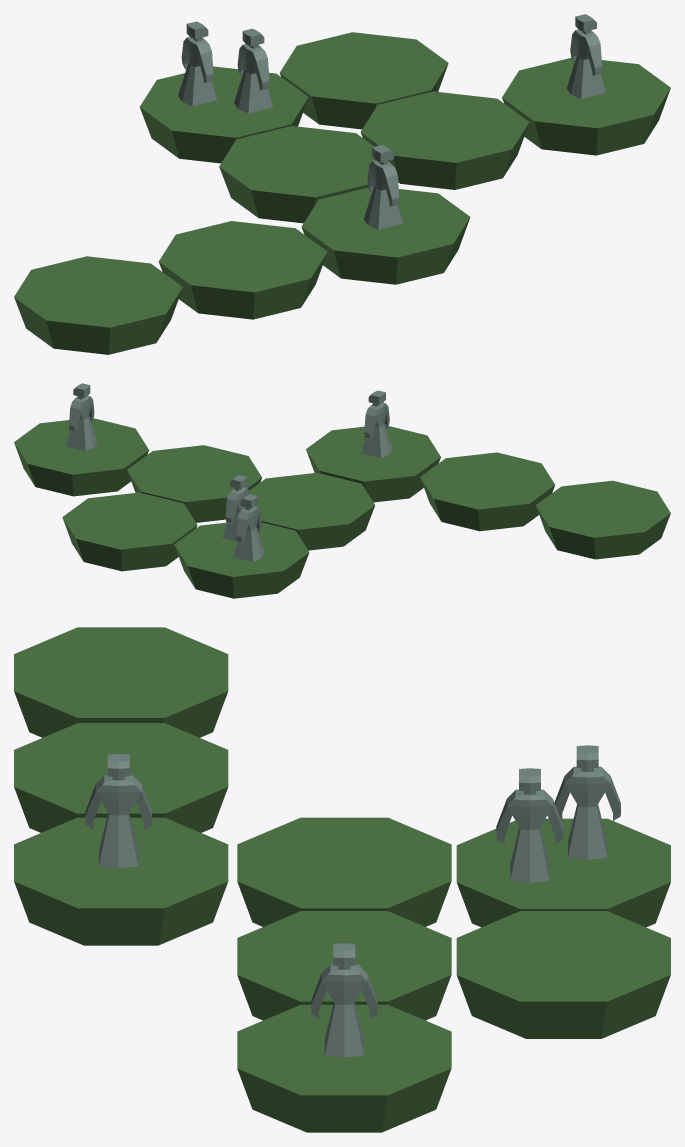
File: minimal.glb
3 renders of one model, top to bottom at view 1: azimuth 30°, elevation 25°; view 2: azimuth 150°, elevation 25°; view 3: azimuth 270°, elevation 25°, orthographic. The views are drawn at different scales.
Parts seen in each view (by area): view 1: Cube.006, Cube.005, field.03, Cube.004, field, Cube.003, field.02, Cube.008, actor.2, Cube.011, actor.4, actor; view 2: Cube.006, Cube.005, field.02, field, Cube.008, Cube.003, field.03, Cube.004, actor, actor.4, Cube.011, actor.2; view 3: field.02, Cube.004, field, Cube.006, Cube.003, Cube.005, field.03, Cube.008, actor, actor.4, actor.2, Cube.011.
Boxes of the visible parts, box(x1,y1,x2,y2) form: Cube.006: box(14, 256, 182, 354); Cube.005: box(158, 221, 327, 319); field.03: box(360, 91, 529, 189); Cube.004: box(301, 187, 470, 284); field: box(502, 57, 670, 155); Cube.003: box(219, 126, 375, 223); field.02: box(279, 32, 448, 129); Cube.008: box(139, 66, 308, 163); actor.2: box(234, 28, 272, 113); Cube.011: box(178, 21, 217, 106); actor.4: box(364, 145, 402, 229); actor: box(566, 14, 605, 98); Cube.006: box(536, 480, 670, 559); Cube.005: box(420, 452, 554, 531); field.02: box(62, 492, 197, 571); field: box(14, 418, 148, 496); Cube.008: box(174, 522, 309, 598); Cube.003: box(249, 472, 375, 550); field.03: box(127, 445, 262, 522); Cube.004: box(306, 426, 440, 502); actor: box(66, 383, 97, 451); actor.4: box(361, 390, 392, 458); Cube.011: box(233, 494, 264, 561); actor.2: box(222, 475, 249, 541); field.02: box(456, 911, 670, 1038); Cube.004: box(14, 817, 228, 945); field: box(237, 1004, 451, 1132); Cube.006: box(14, 627, 228, 737); Cube.003: box(237, 817, 451, 926); Cube.005: box(14, 723, 228, 832); field.03: box(237, 911, 451, 1020); Cube.008: box(456, 818, 670, 927); actor: box(311, 943, 377, 1057); actor.4: box(85, 754, 151, 868); actor.2: box(496, 768, 563, 882); Cube.011: box(554, 745, 620, 859).
Bounding box in the file's own units: 10.33 × 1.5 × 6.13.
